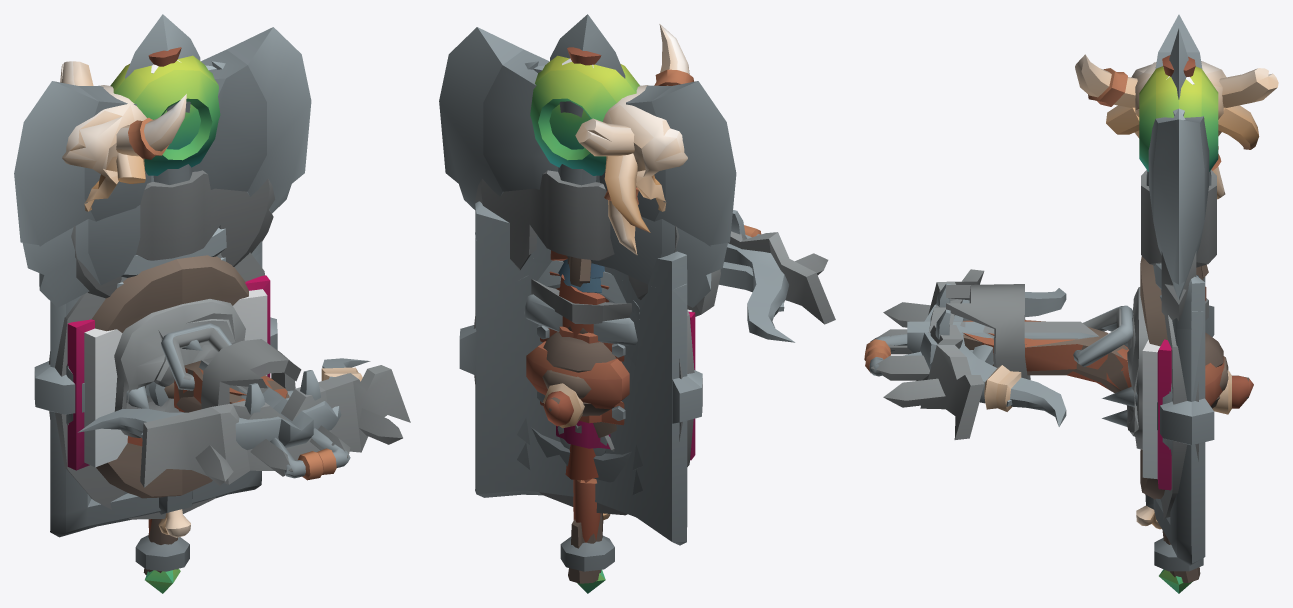
The model's file is weapons.glb.
3 views of the same model, side by side, from view 1: azimuth 30°, elevation 25°; view 2: azimuth 150°, elevation 25°; view 3: azimuth 270°, elevation 25° (orthographic). The views are drawn at different scales.
Visible parts, largest first — view 1: axe_2handed, Skeleton_Crossbow, Skeleton_Shield_Large_A, Skeleton_Axe, staff, crossbow_2handed, Skeleton_Staff, spellbook_open, shield_square, axe_1handed, shield_spikes, sword_1handed (+1 smaller); view 2: shield_square, axe_2handed, Skeleton_Staff, staff, Skeleton_Axe, axe_1handed, crossbow_2handed, Skeleton_Shield_Large_A, Skeleton_Crossbow, sword_1handed, shield_spikes, smokebomb (+5 smaller); view 3: Skeleton_Crossbow, crossbow_2handed, axe_2handed, Skeleton_Staff, Skeleton_Shield_Large_A, shield_square, staff, shield_spikes, spellbook_open, Skeleton_Axe, crossbow_1handed, smokebomb (+1 smaller).
Boxes of the visible parts, <box> form: axe_2handed: <box>14,27,311,246</box>; Skeleton_Crossbow: <box>140,328,410,487</box>; Skeleton_Shield_Large_A: <box>49,252,264,519</box>; Skeleton_Axe: <box>71,170,275,298</box>; staff: <box>110,55,225,593</box>; crossbow_2handed: <box>78,323,370,480</box>; Skeleton_Staff: <box>60,61,190,574</box>; spellbook_open: <box>67,275,270,470</box>; shield_square: <box>50,228,261,537</box>; axe_1handed: <box>22,175,154,307</box>; shield_spikes: <box>34,242,277,514</box>; sword_1handed: <box>125,14,200,78</box>; shield_square: <box>475,201,687,545</box>; axe_2handed: <box>439,27,736,480</box>; Skeleton_Staff: <box>568,24,693,583</box>; staff: <box>525,55,639,593</box>; Skeleton_Axe: <box>475,170,679,433</box>; axe_1handed: <box>567,175,727,307</box>; crossbow_2handed: <box>543,210,795,425</box>; Skeleton_Shield_Large_A: <box>473,310,694,515</box>; Skeleton_Crossbow: <box>548,231,835,411</box>; sword_1handed: <box>524,14,637,455</box>; shield_spikes: <box>459,232,702,494</box>; smokebomb: <box>542,326,616,416</box>; Skeleton_Crossbow: <box>870,269,1253,439</box>; crossbow_2handed: <box>864,283,1253,426</box>; axe_2handed: <box>1146,14,1211,299</box>; Skeleton_Staff: <box>1075,54,1278,582</box>; Skeleton_Shield_Large_A: <box>1126,256,1224,519</box>; shield_square: <box>1153,263,1205,565</box>; staff: <box>1139,66,1218,593</box>; shield_spikes: <box>1101,295,1214,509</box>; spellbook_open: <box>1142,339,1171,490</box>; Skeleton_Axe: <box>1141,170,1216,320</box>; crossbow_1handed: <box>965,306,1248,414</box>; smokebomb: <box>1129,332,1228,408</box>.
Bounding box in the file's own units: 1.24 × 2.31 × 1.53.
Materials: 5 (5 with a texture image).
